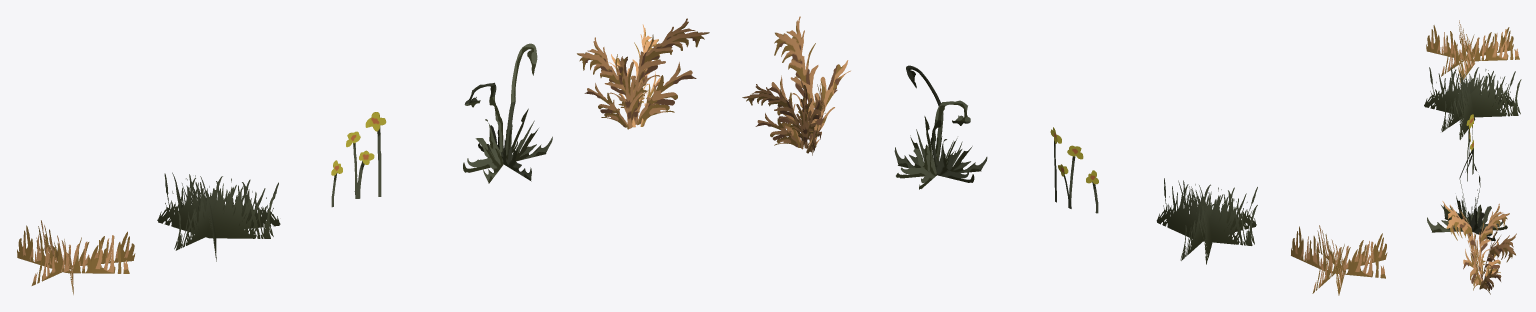
Rendered from foliage.glb.
3 renders of one model, left to right at view 1: azimuth 30°, elevation 25°; view 2: azimuth 150°, elevation 25°; view 3: azimuth 270°, elevation 25°, orthographic. The views are drawn at different scales.
Visible parts, largest first — view 1: Plane.008, Plane.010, Plane.009, Plane.024, Plane.011; view 2: Plane.008, Plane.010, Plane.009, Plane.024, Plane.011; view 3: Plane.010, Plane.008, Plane.024, Plane.009, Plane.011.
Part boxes in pixels (x1,y1,x2,y2): Plane.008: [577, 18, 709, 129]; Plane.010: [157, 172, 280, 261]; Plane.009: [463, 43, 552, 183]; Plane.024: [17, 220, 135, 294]; Plane.011: [331, 112, 386, 207]; Plane.008: [742, 16, 850, 155]; Plane.010: [1156, 178, 1257, 264]; Plane.009: [894, 65, 987, 189]; Plane.024: [1291, 225, 1387, 295]; Plane.011: [1050, 127, 1098, 213]; Plane.010: [1424, 66, 1521, 139]; Plane.008: [1442, 201, 1516, 294]; Plane.024: [1426, 20, 1519, 82]; Plane.009: [1427, 149, 1507, 240]; Plane.011: [1466, 114, 1473, 181].
Bounding box in the file's own units: 4.73 × 0.8657 × 0.7893.
Materials: 5 (5 with a texture image).
